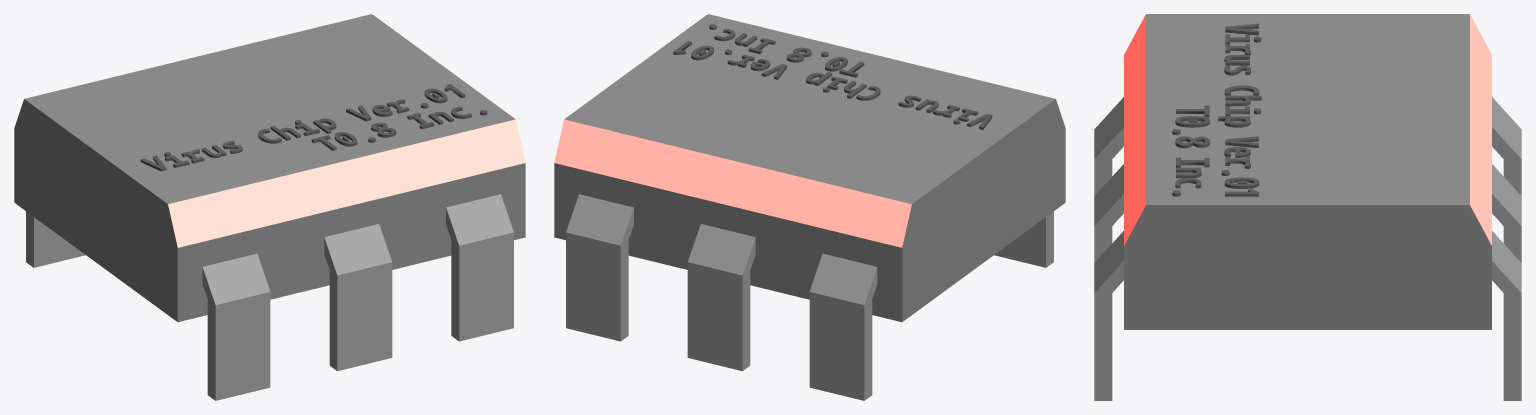
Rendered from V_Chip02.fbx.
The picture shows the model from 3 angles, left to right: view 1: azimuth 30°, elevation 25°; view 2: azimuth 150°, elevation 25°; view 3: azimuth 270°, elevation 25°; orthographic projection. The views are drawn at different scales.
Parts seen in each view (by area): view 1: Virus_01; view 2: Virus_01; view 3: Virus_01.
Boxes of the visible parts, <box> form: Virus_01: <box>14,14,525,400</box>; Virus_01: <box>554,14,1065,400</box>; Virus_01: <box>1094,14,1521,400</box>.
Size of the model in its own units: 200 by 104 by 189.
